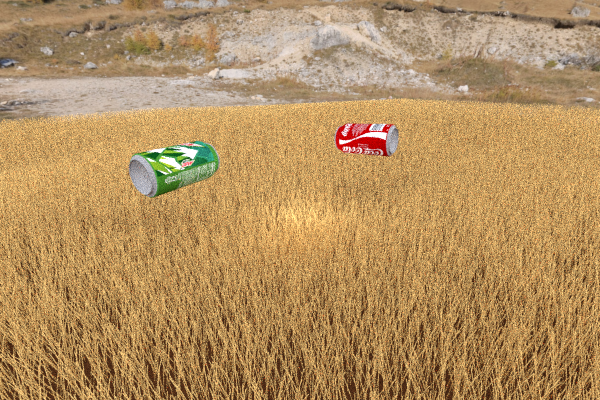bottle: (105, 123, 190, 168)
can: (128, 140, 219, 197), (334, 123, 398, 156)
